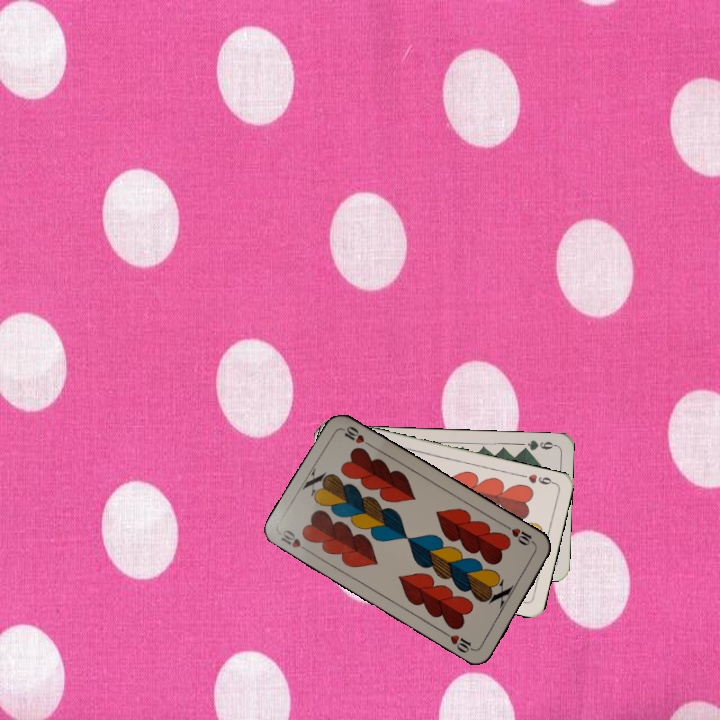G9: (517, 436, 558, 455)
H10: (276, 526, 313, 555), (502, 522, 538, 548)
H9: (517, 470, 557, 487)
